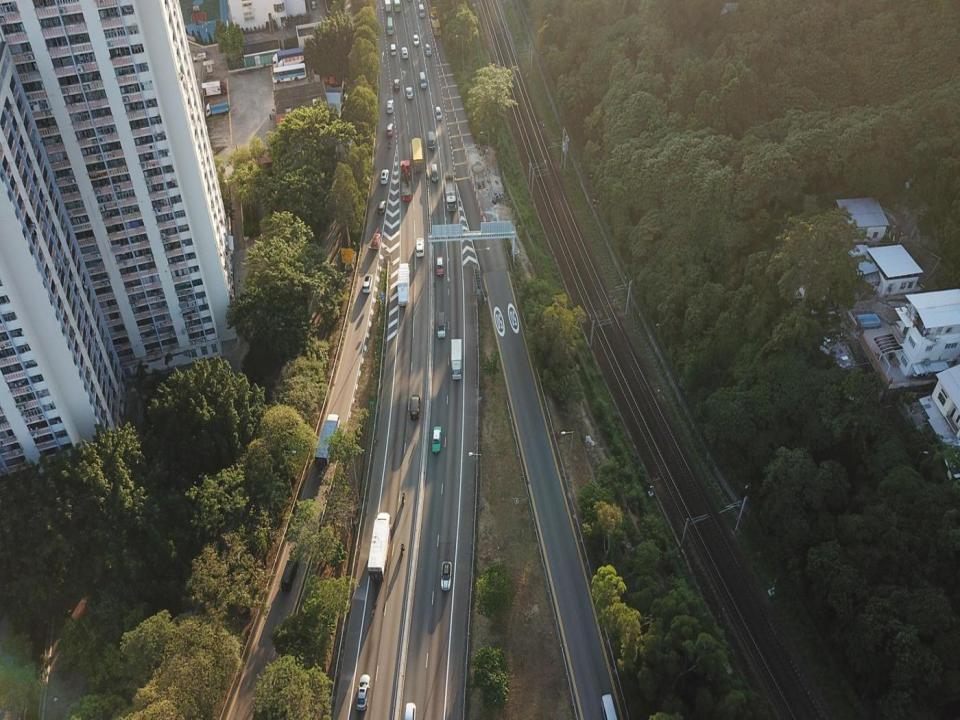bus: (271, 62, 306, 82)
car: (356, 674, 370, 711), (441, 559, 451, 590), (433, 426, 442, 455), (410, 394, 420, 418), (380, 168, 390, 185), (363, 275, 372, 293), (430, 164, 438, 184), (416, 238, 424, 258), (436, 257, 444, 276), (372, 233, 380, 249), (378, 200, 386, 214), (386, 122, 393, 137), (405, 87, 413, 100), (418, 4, 425, 18), (386, 100, 393, 114), (425, 43, 432, 57), (400, 46, 408, 58), (394, 78, 400, 93), (436, 106, 442, 121), (412, 34, 419, 46)
truck: (368, 513, 392, 582), (315, 414, 341, 471), (272, 48, 305, 70), (450, 339, 464, 380), (399, 160, 412, 202), (444, 171, 458, 210), (200, 79, 228, 96), (205, 98, 230, 117), (398, 263, 409, 305), (412, 138, 423, 174), (428, 7, 441, 36), (438, 312, 445, 338)
van: (280, 560, 299, 591), (601, 694, 618, 718), (192, 52, 208, 62), (386, 16, 394, 35), (428, 130, 435, 150), (419, 72, 426, 90), (384, 0, 392, 13), (394, 0, 401, 12), (390, 44, 396, 57)
